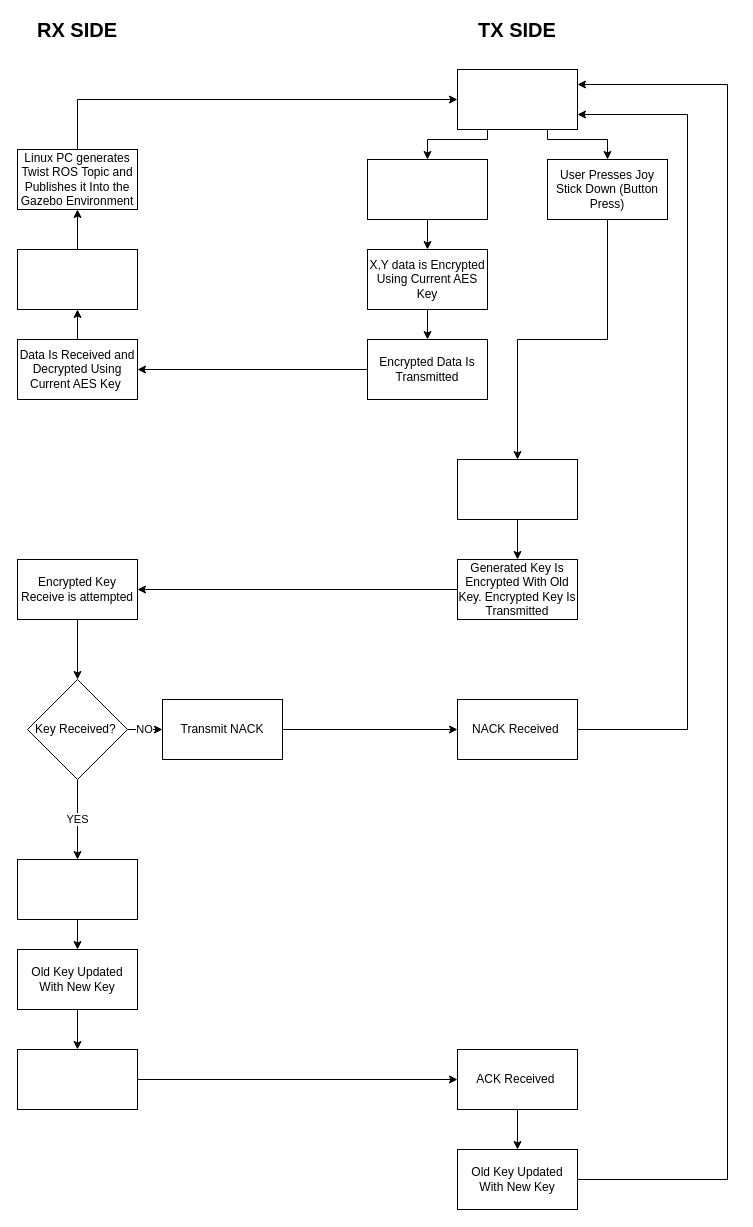
This 753x1227 diagram has some shape labels left out. The shapes that lost their labels are listed below. From the top down, each one's centre as x and y in pixels, then its label:
At pixel 517 99: "Starting System State".
At pixel 427 189: "User Moves Joy Stick in X and Y axis".
At pixel 77 279: "Revived Data is scaled and shifted and sent to Linux PC".
At pixel 517 489: "New Random Key Is Generated".
At pixel 77 889: "Received Key Decrypted With Old Key".
At pixel 77 1079: "Transmit ACK".
